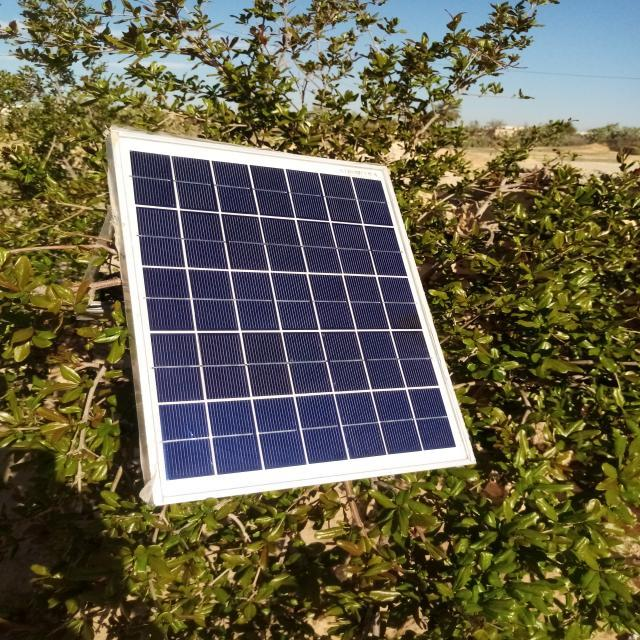no faulty: (109, 132, 482, 500)
